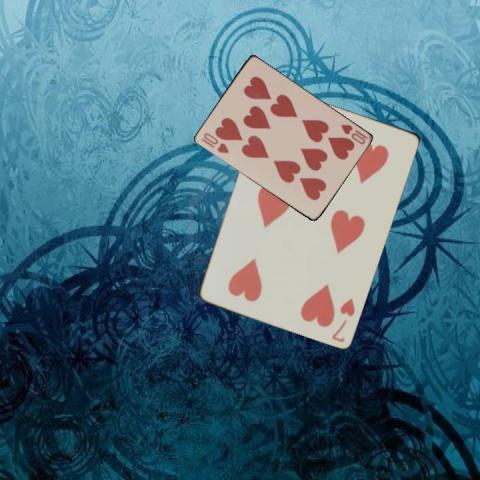10h: (198, 130, 230, 155), (337, 121, 369, 146)
7h: (329, 294, 356, 343)
